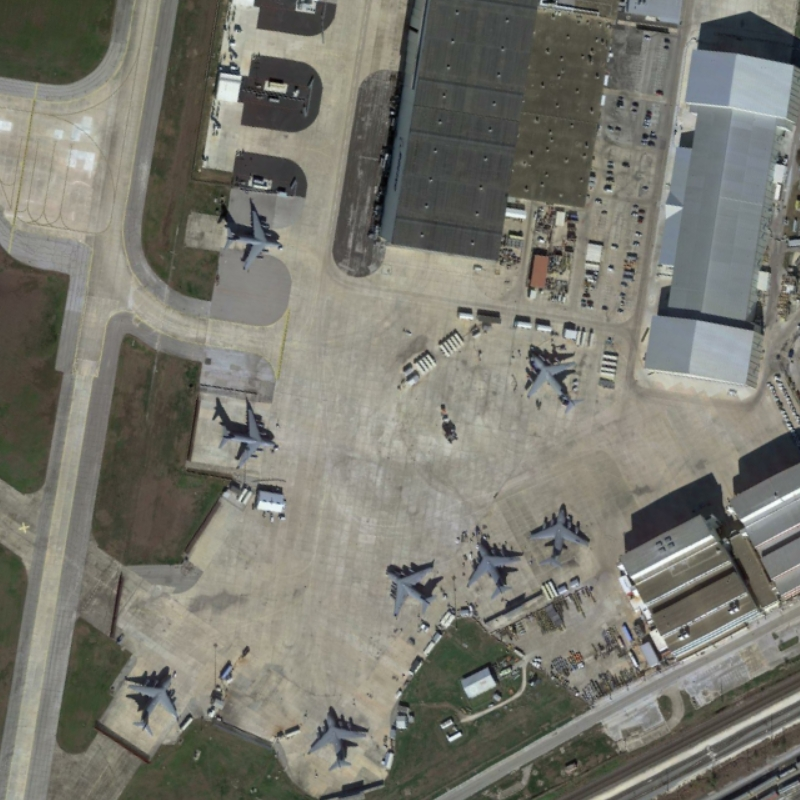A3: (212, 395, 280, 474), (522, 496, 593, 570), (121, 663, 189, 739), (521, 346, 592, 418), (304, 703, 375, 775), (220, 202, 287, 274), (463, 535, 528, 603), (380, 557, 443, 620)
